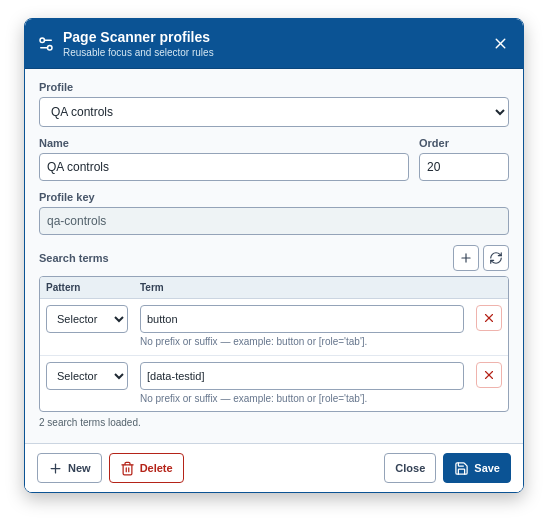
Test: shows row-specific attribute validation and blocks invalid saves
Select "Attribute" in the dropdown named "Pattern for search term 1" at (87, 319), box [46,305,128,333]
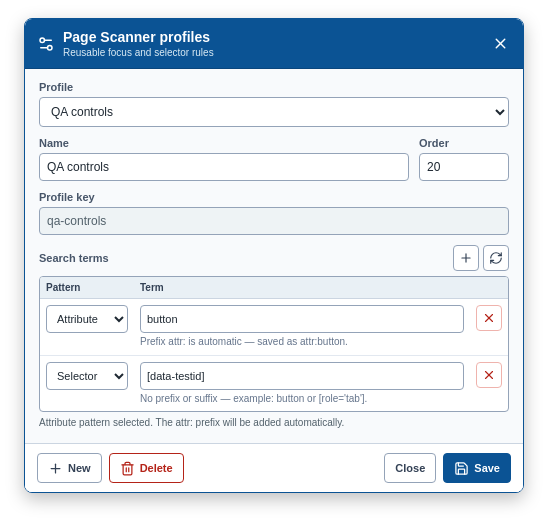
Replace the text in the field named "Search term 1" with "data id" at (302, 319), box [140,305,464,333]
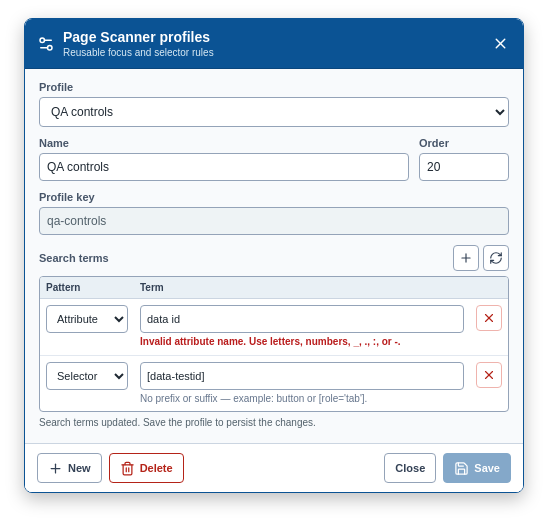
expect the text "Invalid attribute name. Use letters, numbers, _, ., :, or -." is shown: met, box [140,336,401,347]
expect the button "Save" is disabled: met, box [443,453,511,483]
